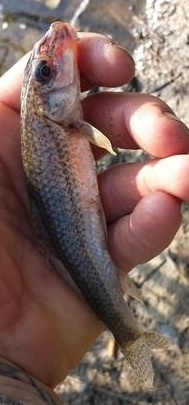Gobio gobio: (20, 20, 169, 385)
